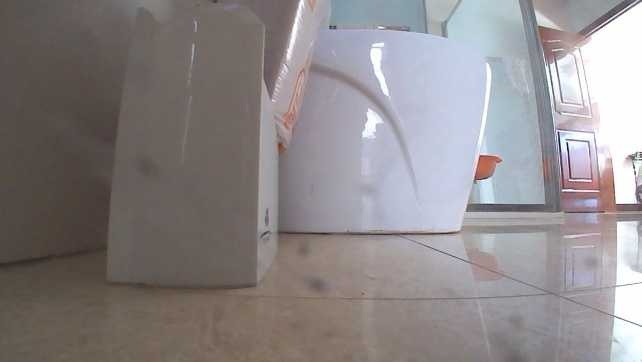toilet: (184, 0, 495, 240)
